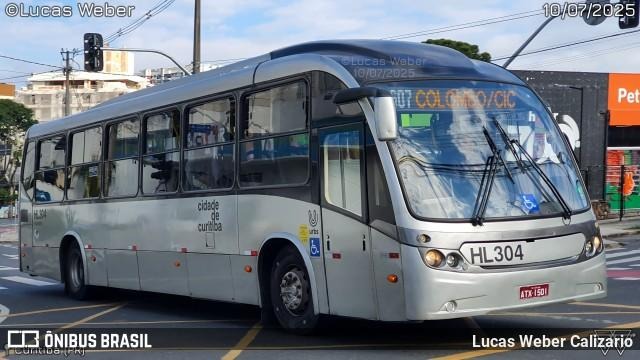COLOMBO CIC: (413, 86, 518, 110)
